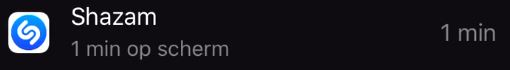name: (66, 1, 164, 32)
time: (68, 33, 125, 62)
